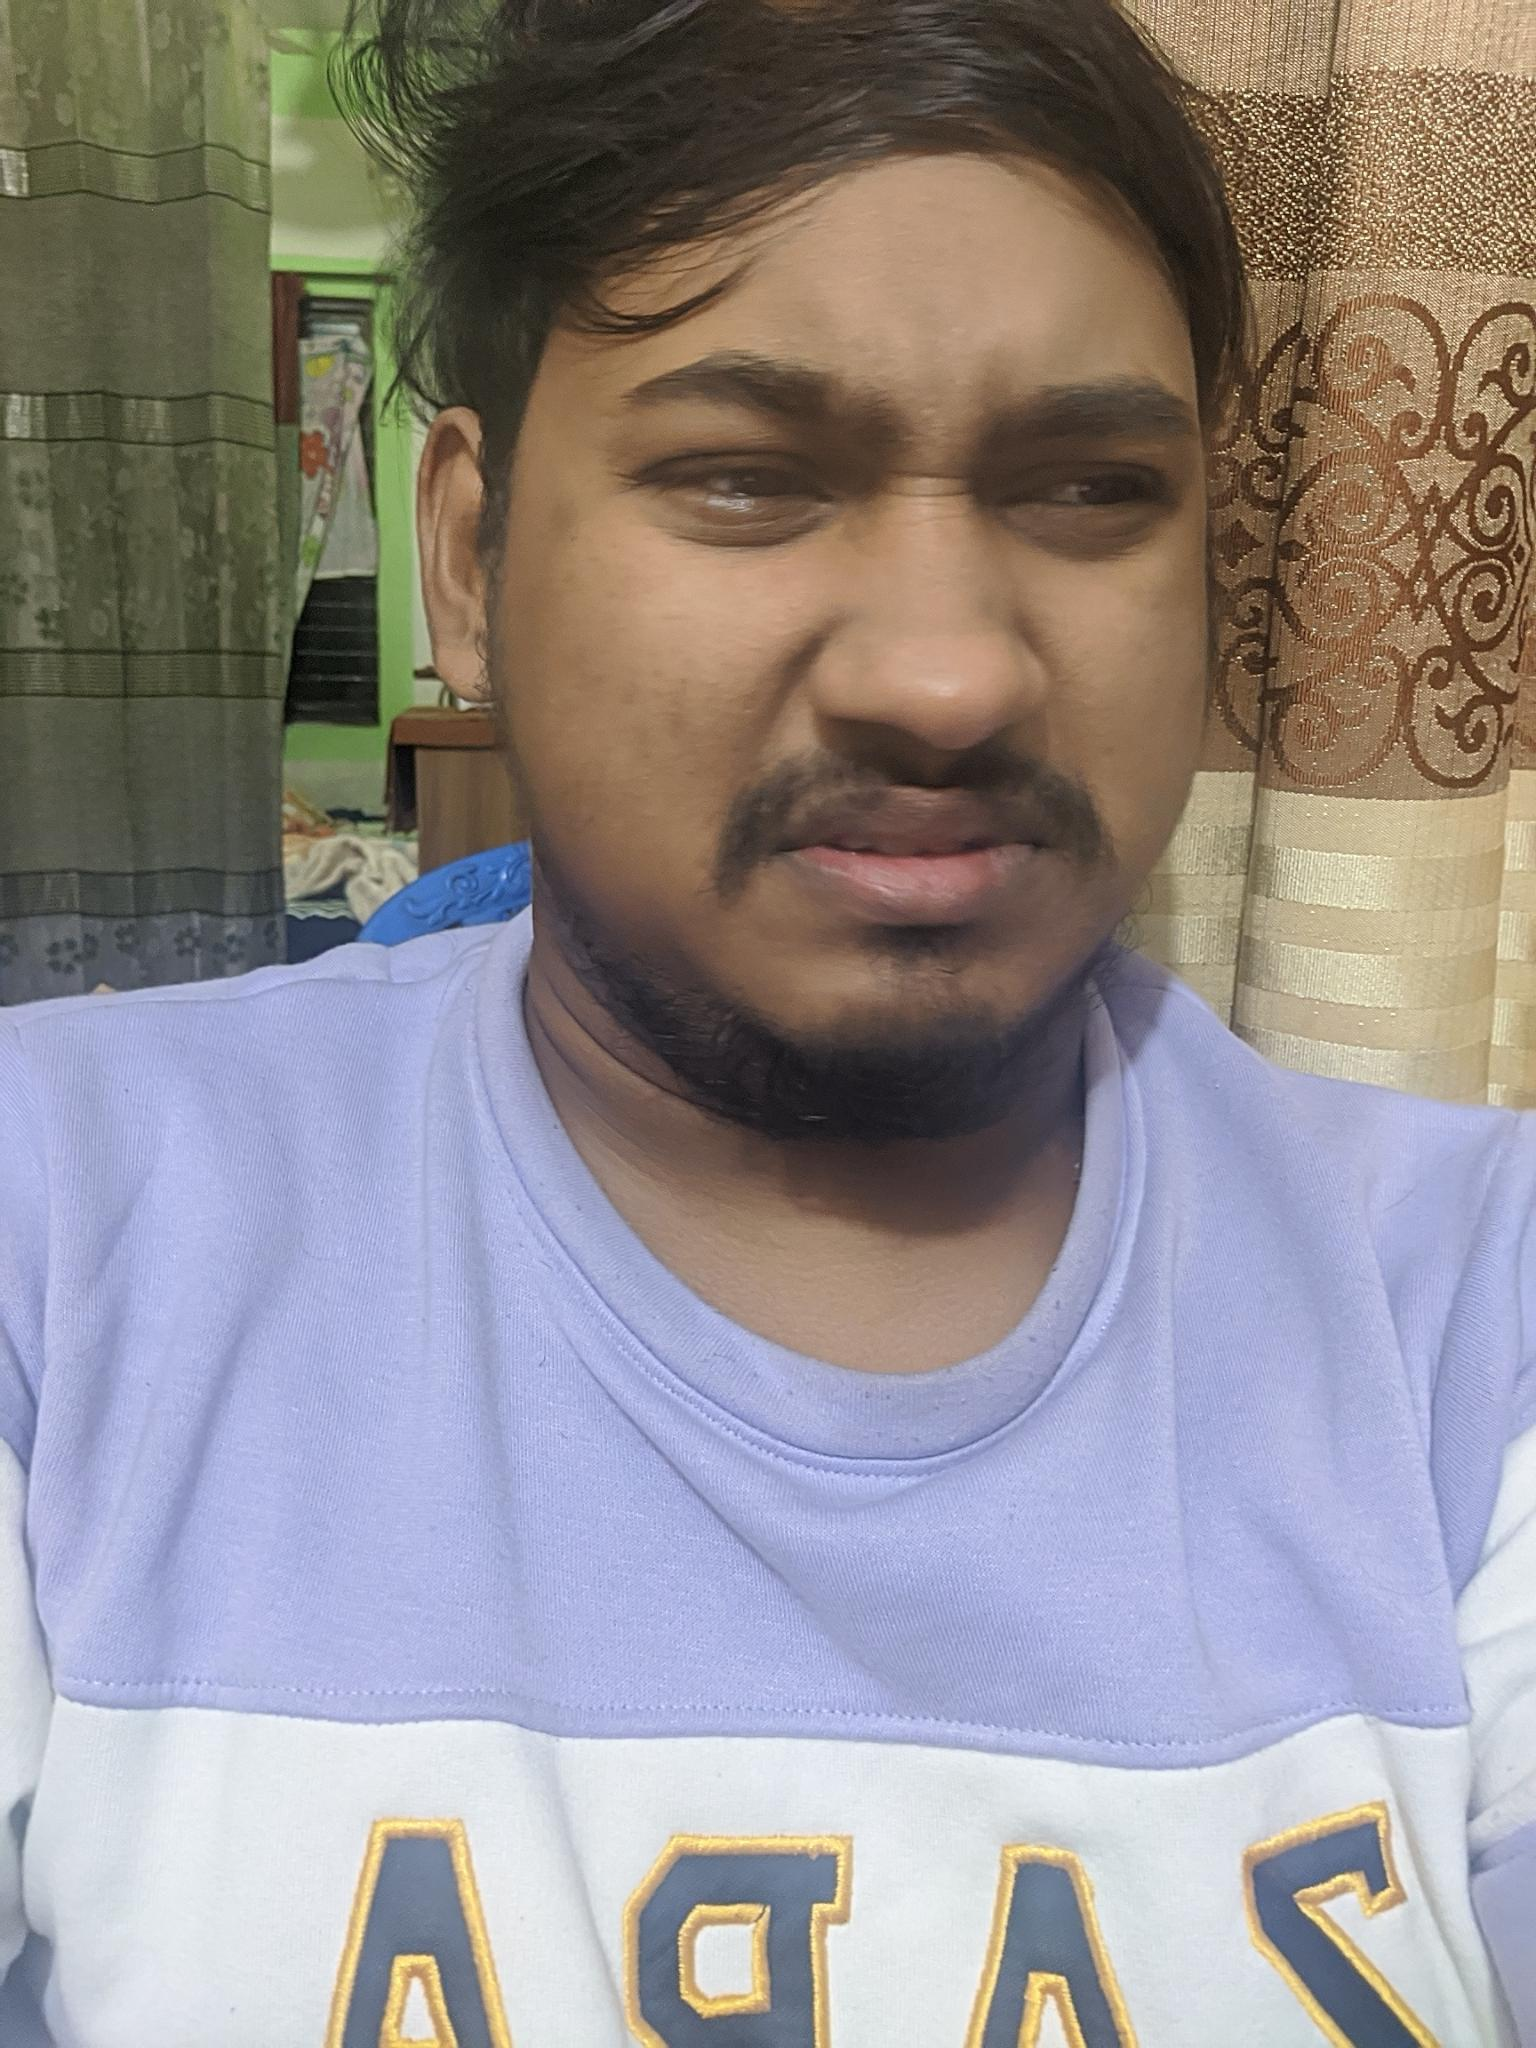Disgust: (552, 273, 1247, 1101)
